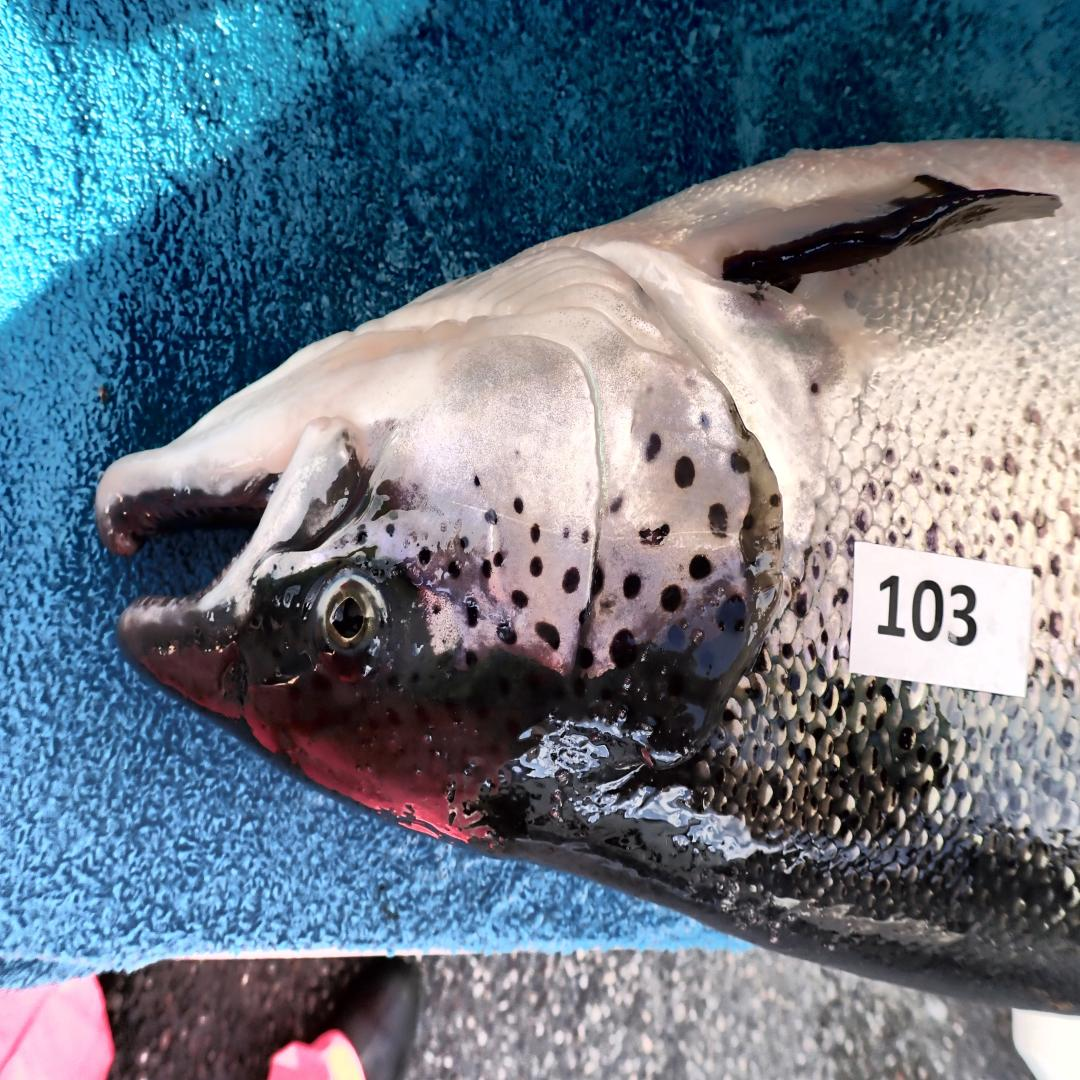spot: (717, 593, 747, 633), (610, 630, 637, 669), (639, 523, 669, 546), (709, 503, 728, 537), (536, 622, 559, 650), (675, 456, 694, 489), (660, 585, 681, 613), (690, 554, 711, 579), (667, 624, 686, 650), (645, 433, 662, 461), (622, 574, 641, 599), (464, 596, 479, 627), (496, 622, 517, 644), (563, 568, 580, 593), (683, 371, 702, 391), (578, 647, 595, 669), (591, 565, 603, 596), (730, 453, 749, 472), (578, 605, 591, 627), (418, 546, 432, 565), (529, 557, 542, 577), (742, 512, 755, 532), (447, 560, 460, 579), (698, 411, 711, 430), (610, 495, 622, 515), (599, 596, 616, 610), (513, 591, 527, 608), (485, 509, 498, 526), (529, 523, 540, 543), (510, 442, 523, 458), (466, 650, 477, 667), (639, 382, 654, 394), (513, 498, 523, 515), (481, 560, 491, 577), (494, 551, 504, 565), (472, 472, 481, 487), (582, 529, 591, 543), (432, 602, 441, 616), (460, 534, 468, 548), (386, 523, 394, 537), (770, 495, 780, 506), (563, 526, 570, 537)
